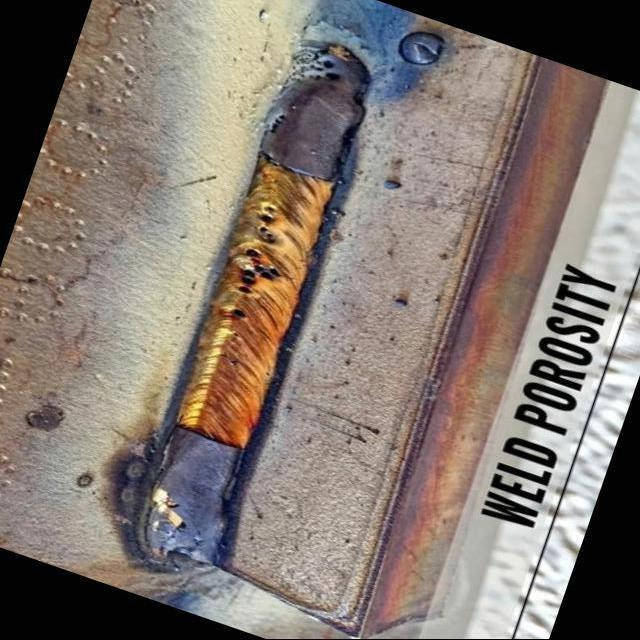defect: (233, 245, 289, 299), (279, 49, 343, 91), (256, 204, 278, 244), (267, 113, 288, 136), (217, 351, 238, 368), (228, 309, 251, 322), (227, 329, 240, 340)
